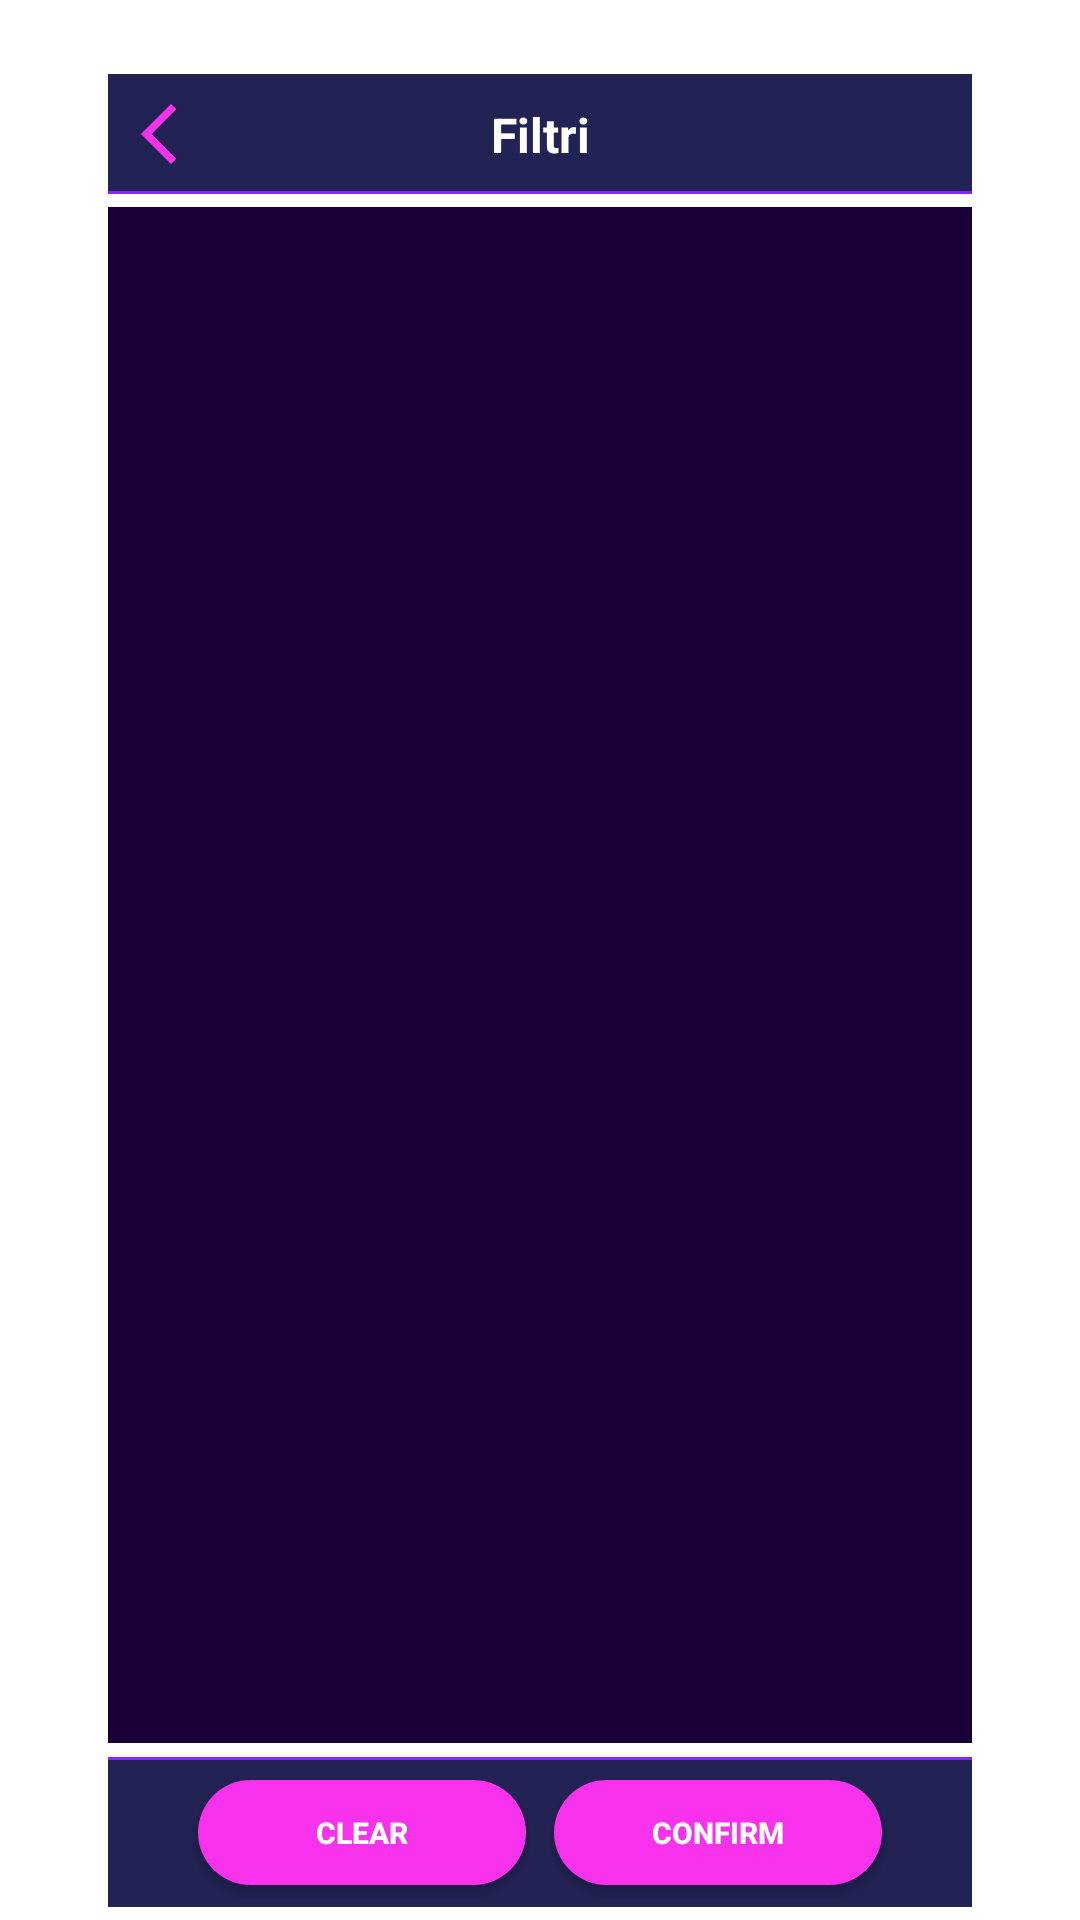

Where icons sit on this 1080x1920 app screen, as bbox(x1, y1, x2, y2):
arrow back: bbox(141, 104, 176, 164)
